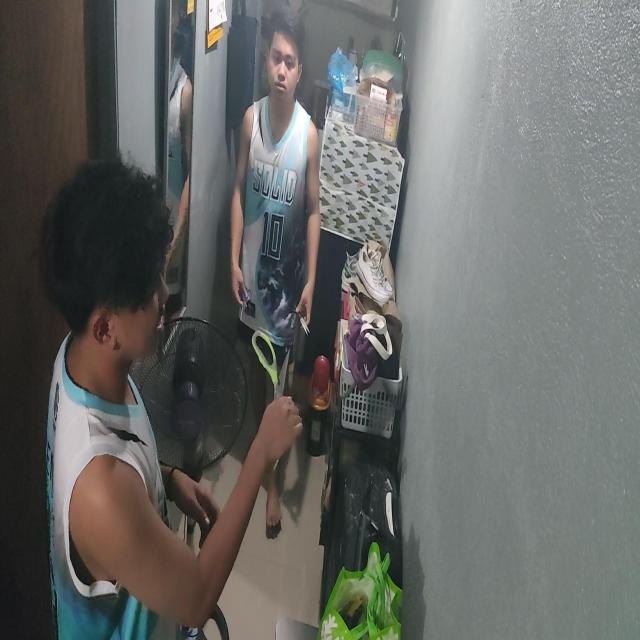scissor: (251, 330, 301, 476), (289, 302, 309, 335), (240, 283, 252, 322)
